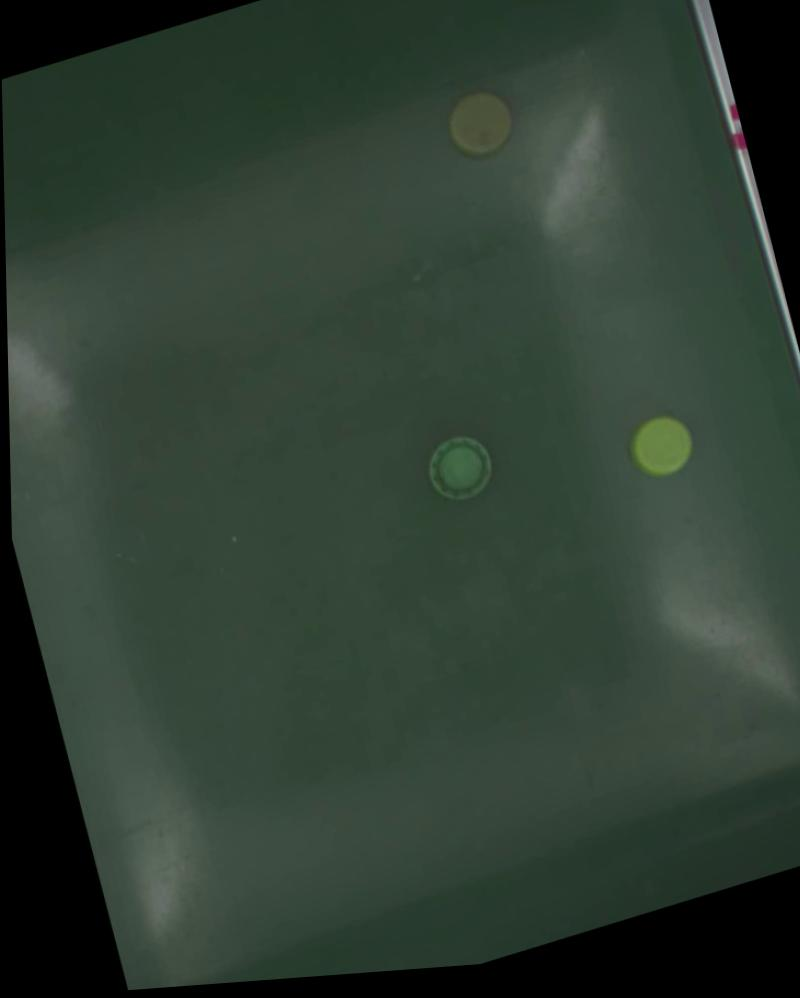others: (441, 83, 520, 163), (420, 427, 499, 506), (625, 407, 703, 485)
